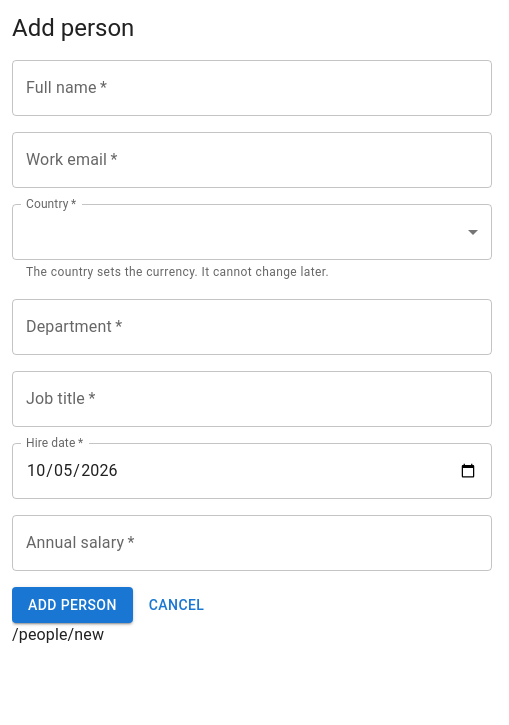
a refused person keeps the form open with the reason
Type "Asha Rao" into the field labelled "Full name *" at x=252, y=88, box [12,60,492,116]
Type "asha.rao@acme.example" into the field labelled "Work email *" at x=252, y=160, box [12,132,492,188]
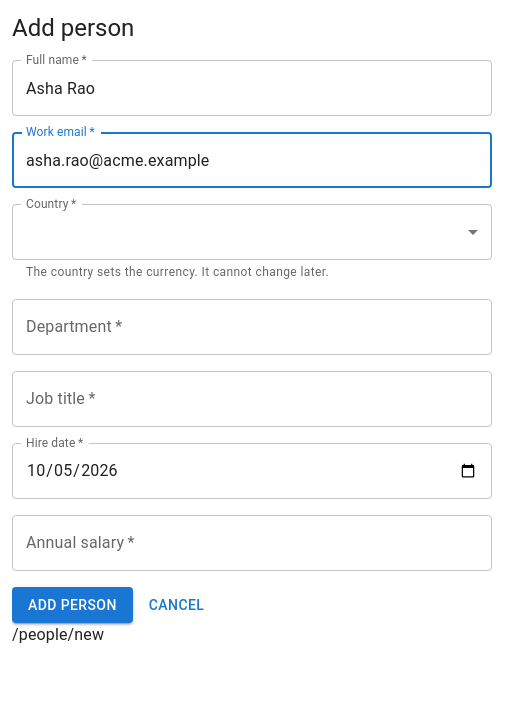
Select "India" in the dropdown labelled "Country *" at x=252, y=232, box [12,204,492,260]
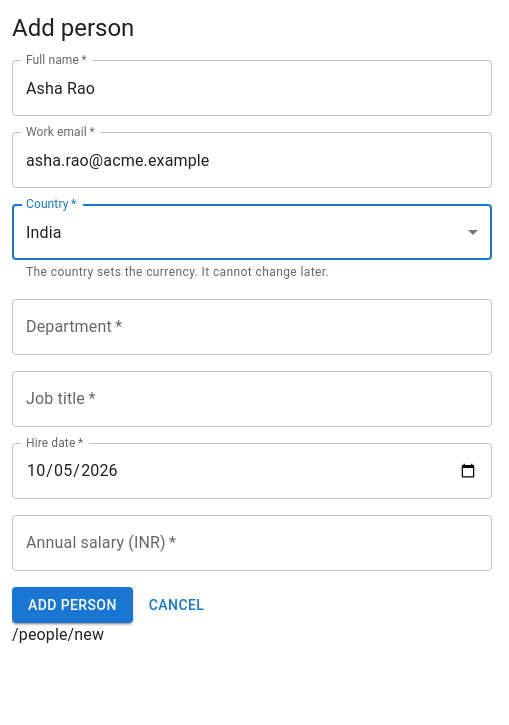
Type "Engineering" into the field labelled "Department *" at x=252, y=327, box [12,299,492,355]
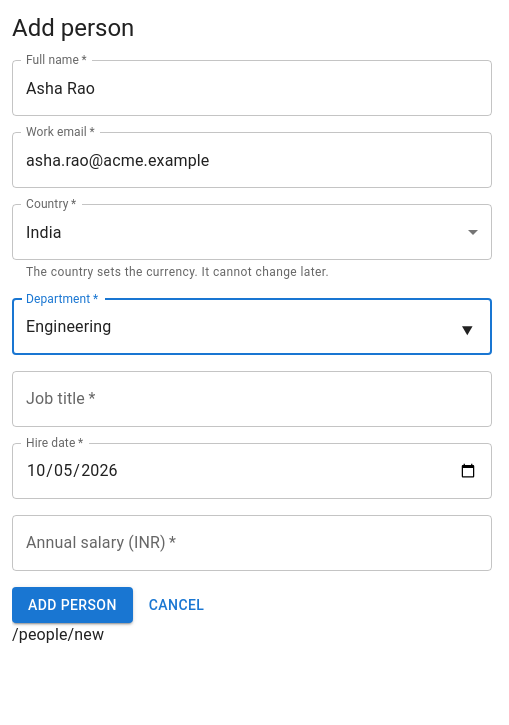
Type "Software Engineer" into the field labelled "Job title *" at x=252, y=399, box [12,371,492,427]
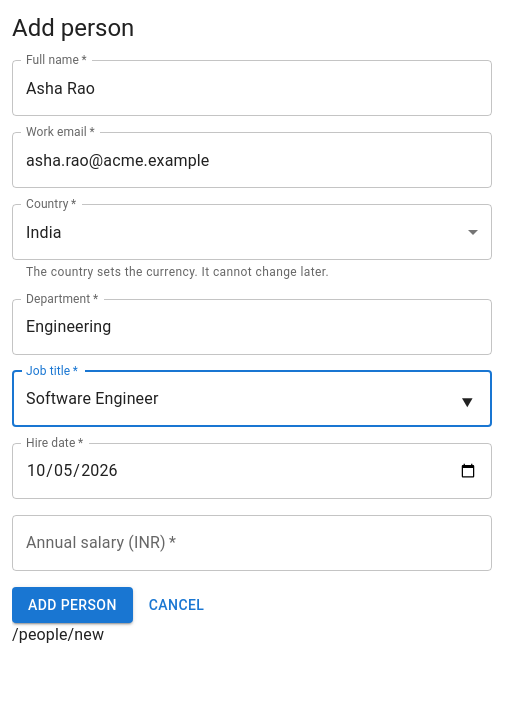
Type "2700000" into the number field labelled "Annual salary (INR) *" at x=252, y=543, box [12,515,492,571]
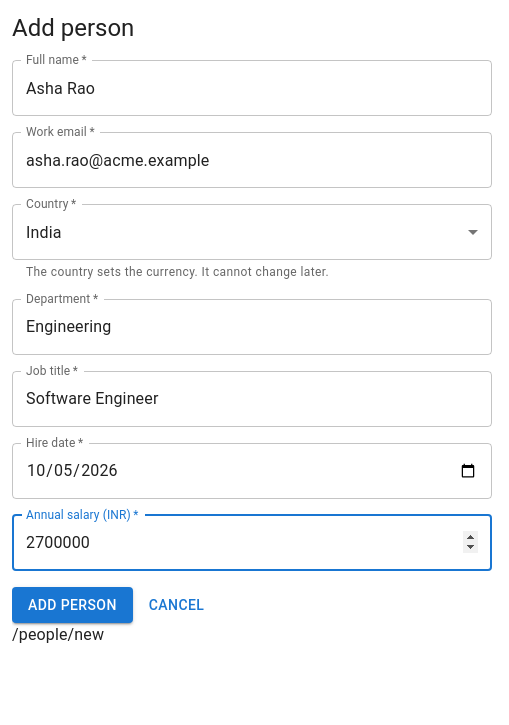
Click the button "Add person" at x=72, y=605, box [12,587,133,623]
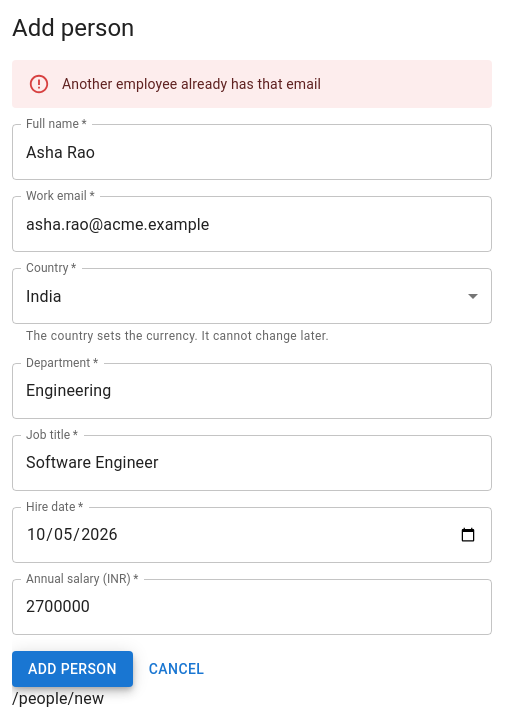
Check: the text with test id "address" reads "/people/new", box [12,689,104,708]
Check: the text "Another employee already has that email" is shown, box [62,76,321,92]
